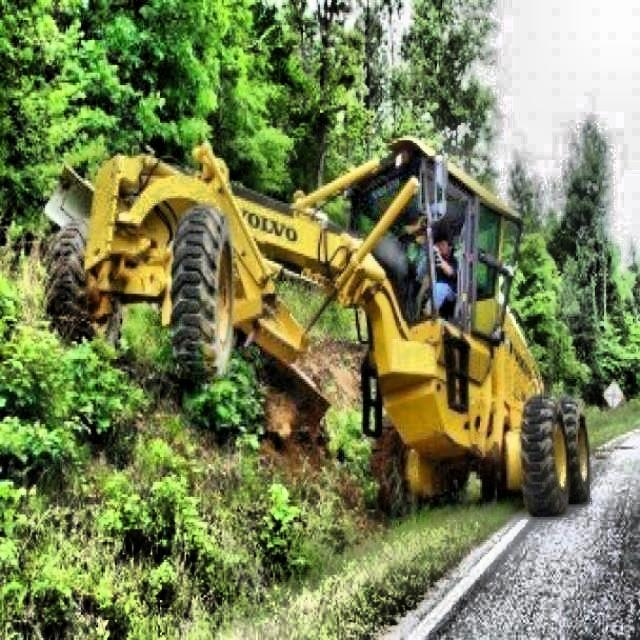bull_dozer/loader/grader: (40, 132, 592, 518)
person: (427, 234, 462, 315)
